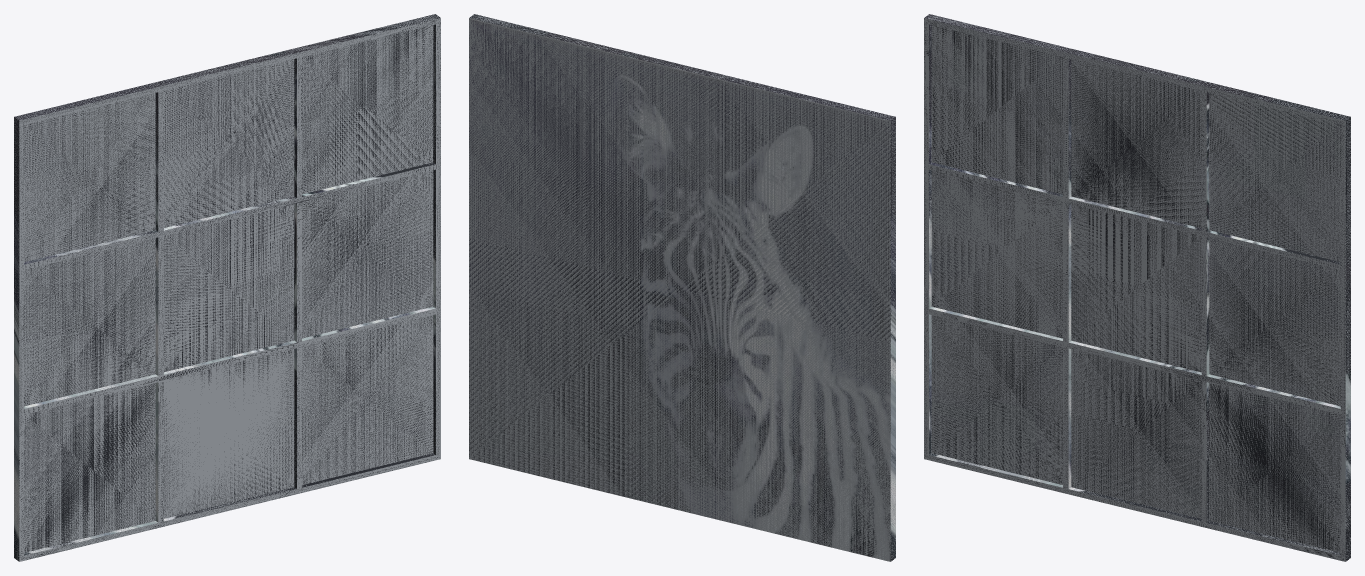
File: prop_mirror_9_segments.fbx
The picture shows the model from 3 angles, left to right: view 1: azimuth 30°, elevation 25°; view 2: azimuth 150°, elevation 25°; view 3: azimuth 330°, elevation 25°; orthographic projection.
Visible parts, largest first — view 1: Model; view 2: Model; view 3: Model.
Part boxes in pixels (bbox=[...]): Model: bbox=[14, 14, 440, 561]; Model: bbox=[469, 14, 895, 561]; Model: bbox=[924, 14, 1350, 561].
Bounding box in the file's own units: 0.9 × 0.9 × 0.02.
